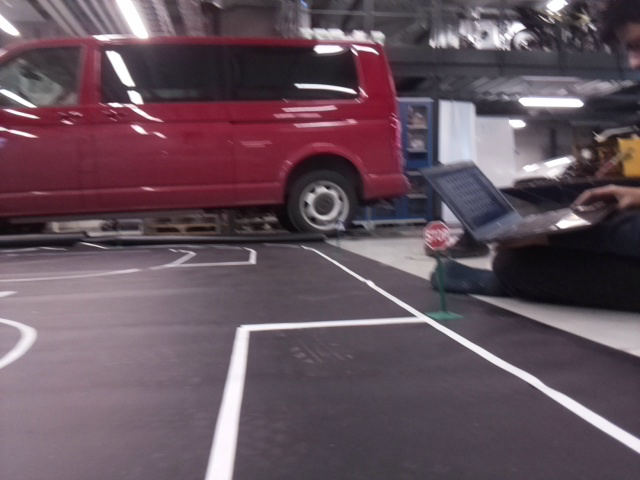Stop: (422, 219, 449, 250)
